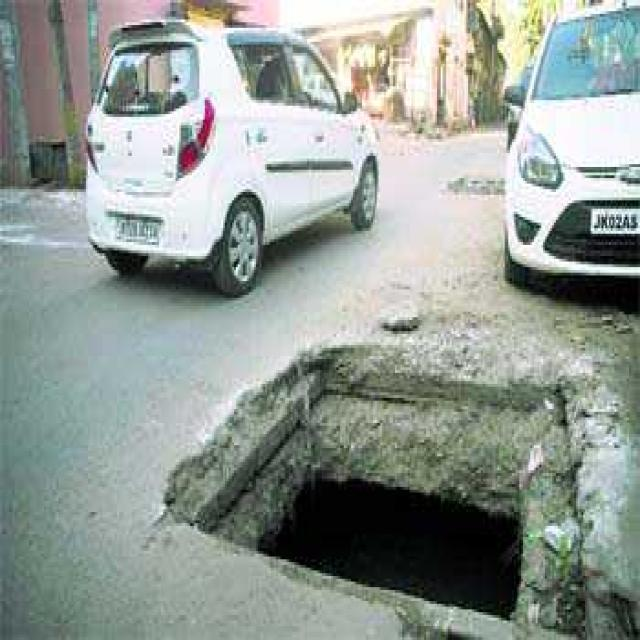Car: (84, 19, 382, 294), (507, 6, 640, 285)
